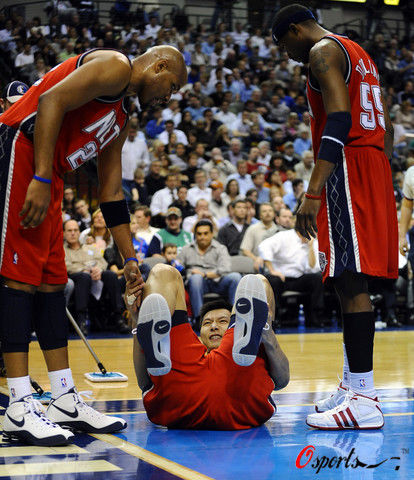10+: (4, 1, 412, 441)
down: (131, 265, 291, 432)
